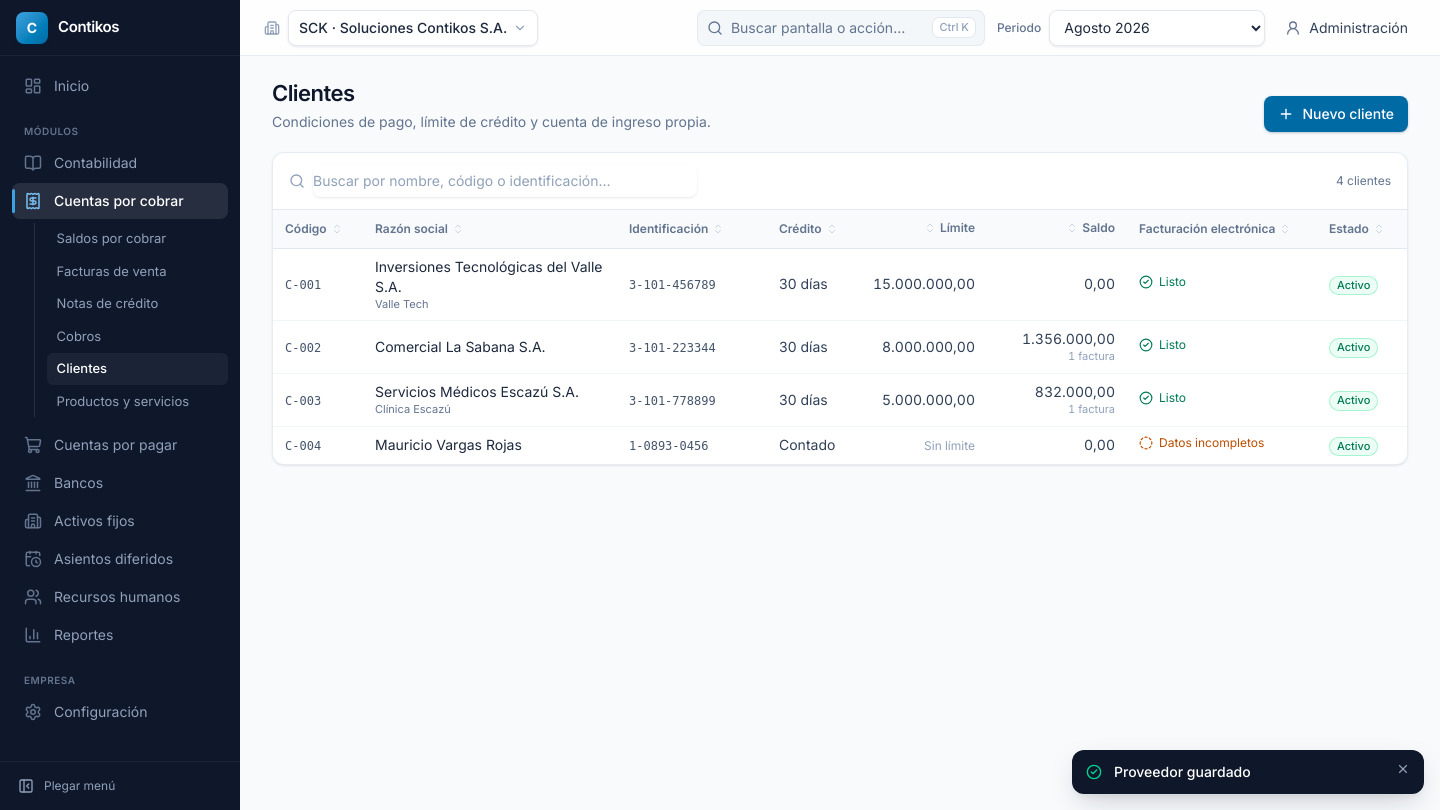
Scenario: Directorio de terceros del grupo › no ofrece un tercero que ya es cliente de la empresa abierta
expect the text "Comercial La Sabana S.A." is shown: met, box [375,338,546,355]
Step 1. Click the button "Nuevo cliente" → (1336, 114), box [1264,96,1408,132]
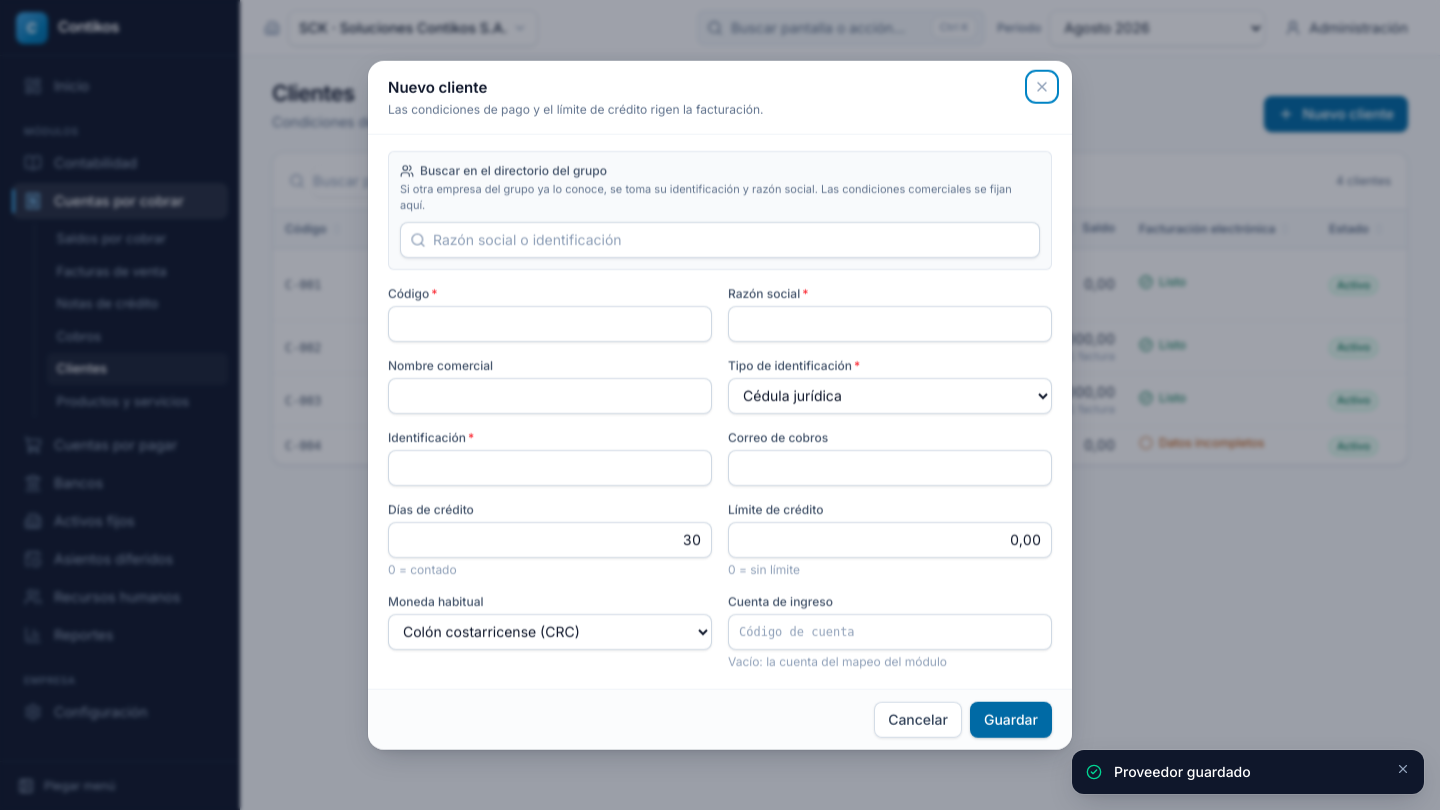
Step 2. Type "sabana" into the field labelled "Buscar en el directorio del grupo" → (720, 239), box [400,221,1040,257]
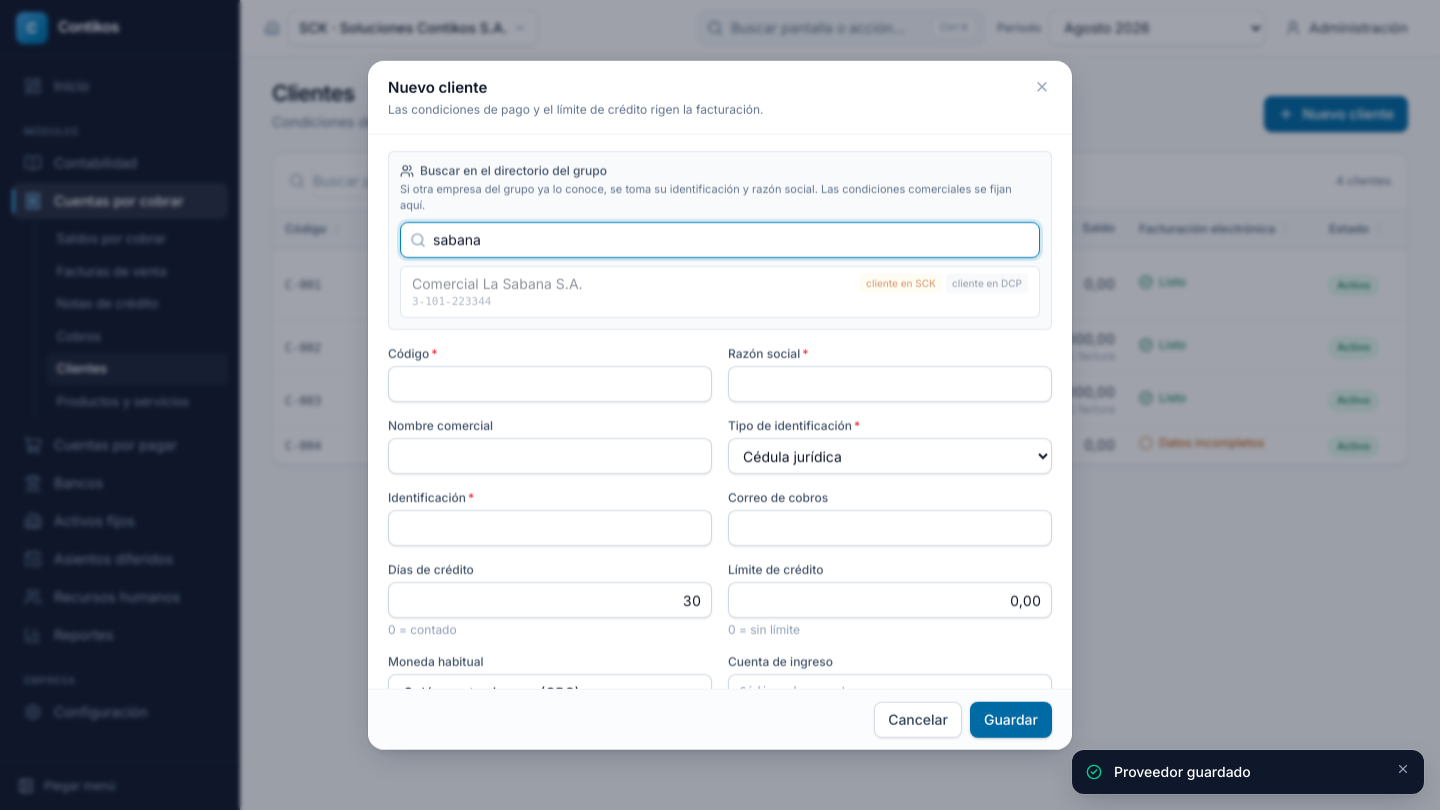
expect the button with aria-label "ya es cliente de esta empresa" is disabled: met, box [400,265,1040,318]
